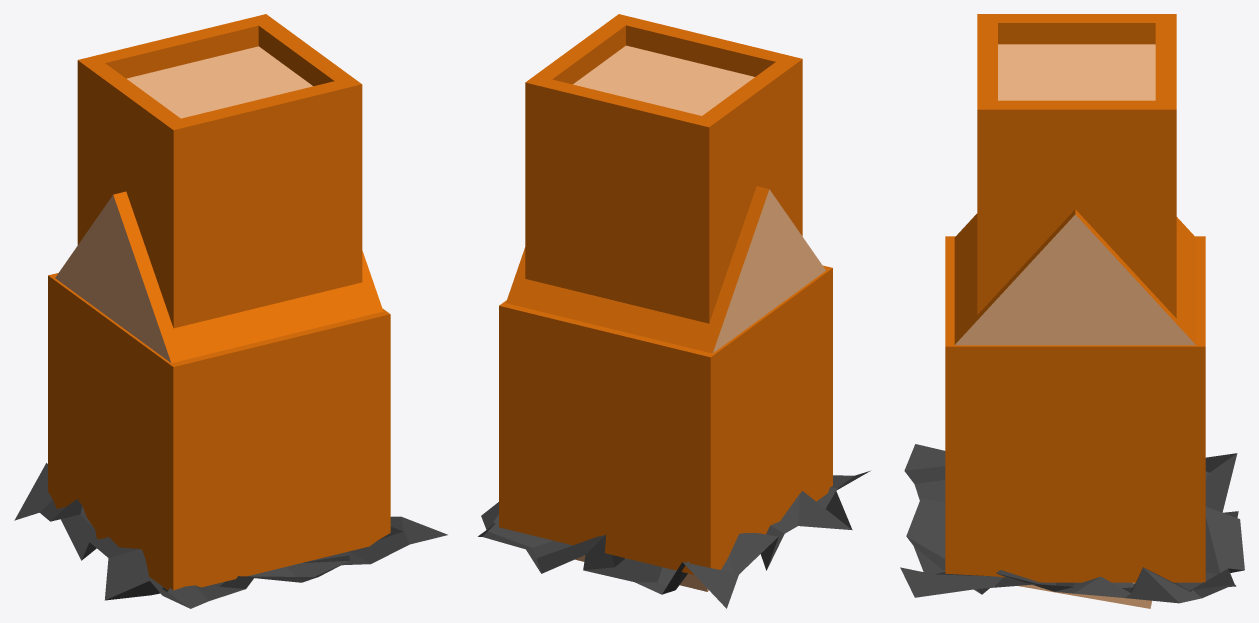
Rendered from buildings.fbx.
3 renders of one model, left to right at view 1: azimuth 30°, elevation 25°; view 2: azimuth 150°, elevation 25°; view 3: azimuth 270°, elevation 25°, orthographic. The views are drawn at different scales.
Visible parts, largest first — view 1: tall_building, small_house, rubble; view 2: tall_building, small_house, rubble; view 3: tall_building, small_house, rubble, Cube.
Part boxes in pixels (box(x1,y1,x2,y2)): tall_building: box(48, 14, 390, 590); small_house: box(55, 191, 383, 363); rubble: box(14, 463, 447, 608); tall_building: box(499, 14, 832, 574); small_house: box(506, 186, 825, 353); rubble: box(478, 470, 870, 608); tall_building: box(945, 14, 1205, 582); small_house: box(954, 209, 1202, 582); rubble: box(900, 444, 1244, 603); Cube: box(1018, 582, 1151, 608).
Bounding box in the file's own units: 231 × 354 × 218.
